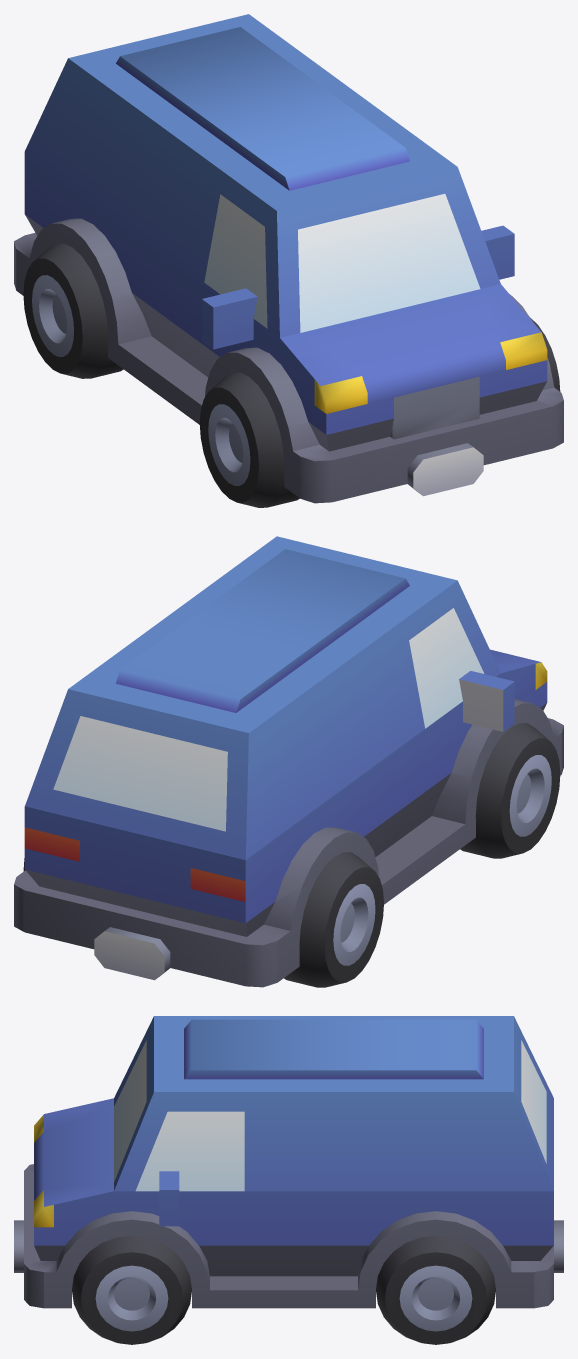
Rendered from car_van.glb.
3 renders of one model, top to bottom at view 1: azimuth 30°, elevation 25°; view 2: azimuth 150°, elevation 25°; view 3: azimuth 270°, elevation 25°, orthographic. The views are drawn at different scales.
Parts seen in each view (by area): view 1: body, wheel_fl_mesh, wheel_rl_mesh; view 2: body, wheel_rl_mesh, wheel_fl_mesh; view 3: body, wheel_fr_mesh, wheel_rr_mesh.
Part boxes in pixels (x1,y1,x2,y2): body: (14, 14, 563, 503); wheel_fl_mesh: (199, 372, 299, 507); wheel_rl_mesh: (23, 243, 123, 378); body: (14, 536, 563, 987); wheel_rl_mesh: (284, 852, 383, 987); wheel_fl_mesh: (460, 723, 560, 858); body: (14, 1016, 563, 1308); wheel_fr_mesh: (72, 1235, 191, 1344); wheel_rr_mesh: (376, 1235, 495, 1344).
Bounding box in the file's own units: 1.77 × 1.59 × 3.25.
Materials: 1 (1 with a texture image).
